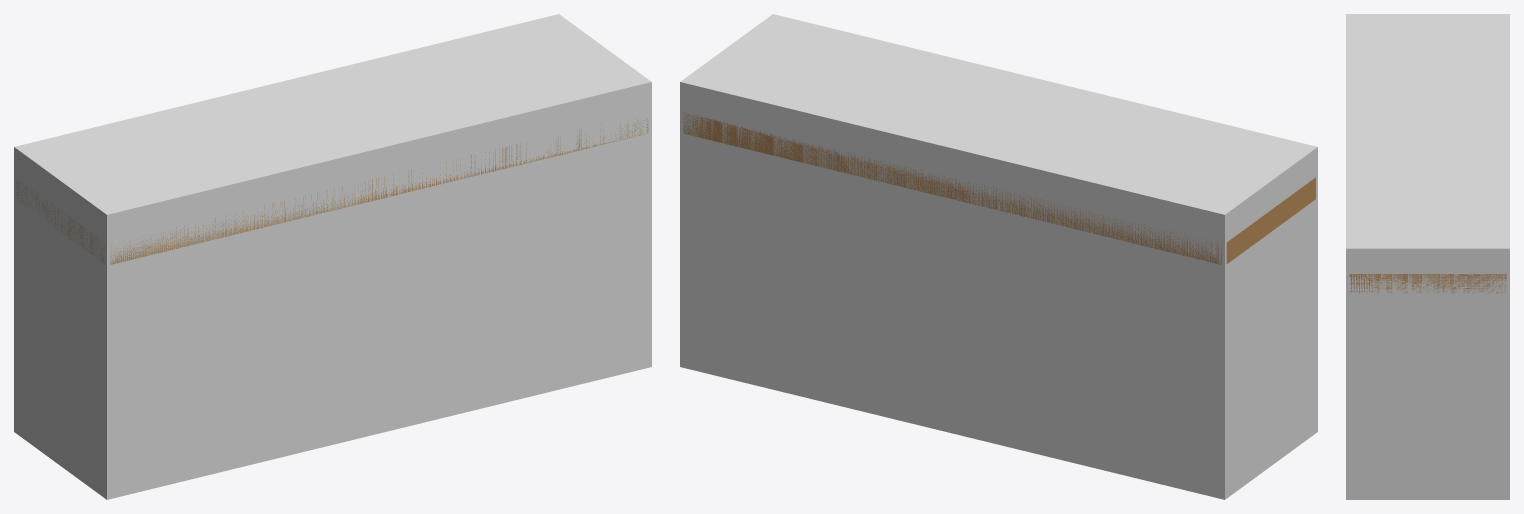
File: back-counter_commercial.glb
3 views of the same model, side by side, from view 1: azimuth 30°, elevation 25°; view 2: azimuth 150°, elevation 25°; view 3: azimuth 270°, elevation 25° (orthographic). The views are drawn at different scales.
Parts seen in each view (by area): view 1: COL_back-counter, MESH_Worktop; view 2: COL_back-counter, MESH_Worktop; view 3: COL_back-counter, MESH_Worktop.
Boxes of the visible parts, x1,y1,x2,y2 form: COL_back-counter: (14, 14, 651, 499); MESH_Worktop: (16, 119, 648, 264); COL_back-counter: (680, 14, 1317, 499); MESH_Worktop: (683, 112, 1315, 264); COL_back-counter: (1346, 14, 1509, 499); MESH_Worktop: (1349, 274, 1506, 293).
Size of the model in its own units: 2.1 by 1.05 by 0.62.
